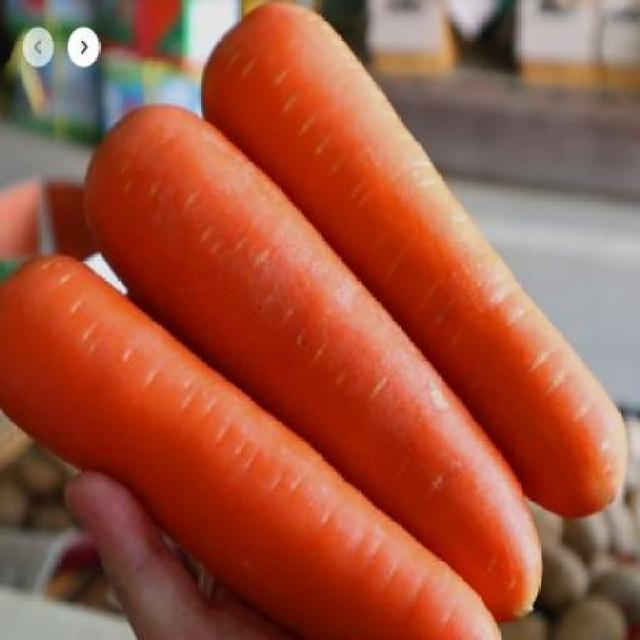carrot: (74, 106, 551, 620), (201, 1, 630, 521), (6, 252, 509, 640)
